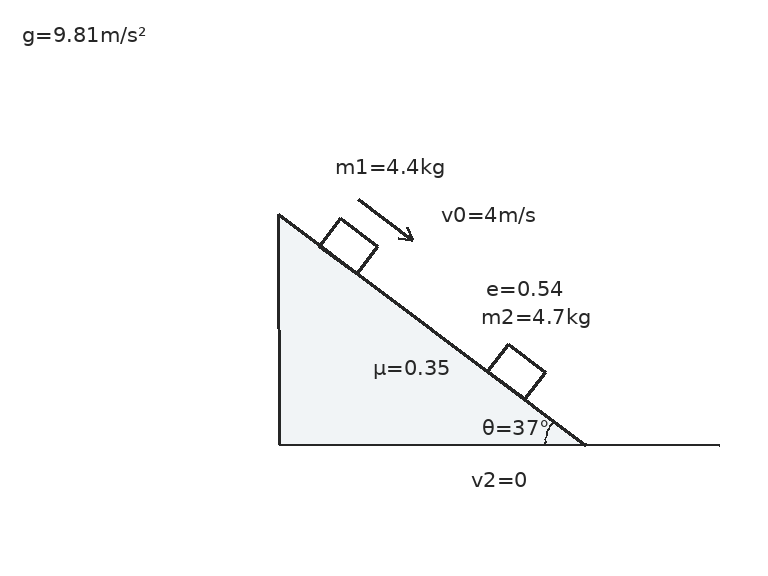block: (317, 216, 379, 275), (485, 342, 547, 401)
ramp: (276, 212, 587, 447)
